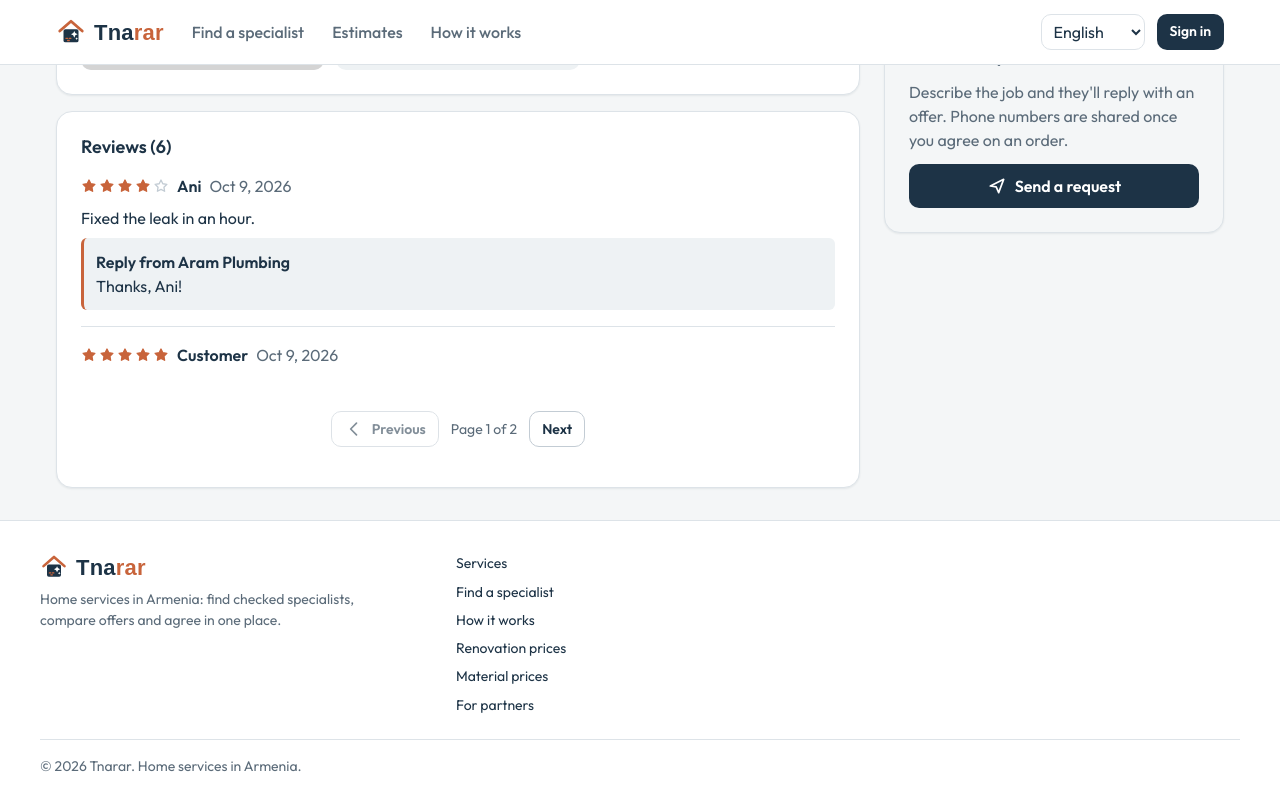
Scenario: Partner profile › shows the rating and pages through reviews with the partner replies
(page scrolled)
Expected: the text "Fixed the leak in an hour." is shown, [81, 208, 255, 228]
Expected: the text "Thanks, Ani!" is shown, [96, 276, 182, 296]
Click the button "Next" at [557, 429], box [529, 411, 585, 447]
(page scrolled)
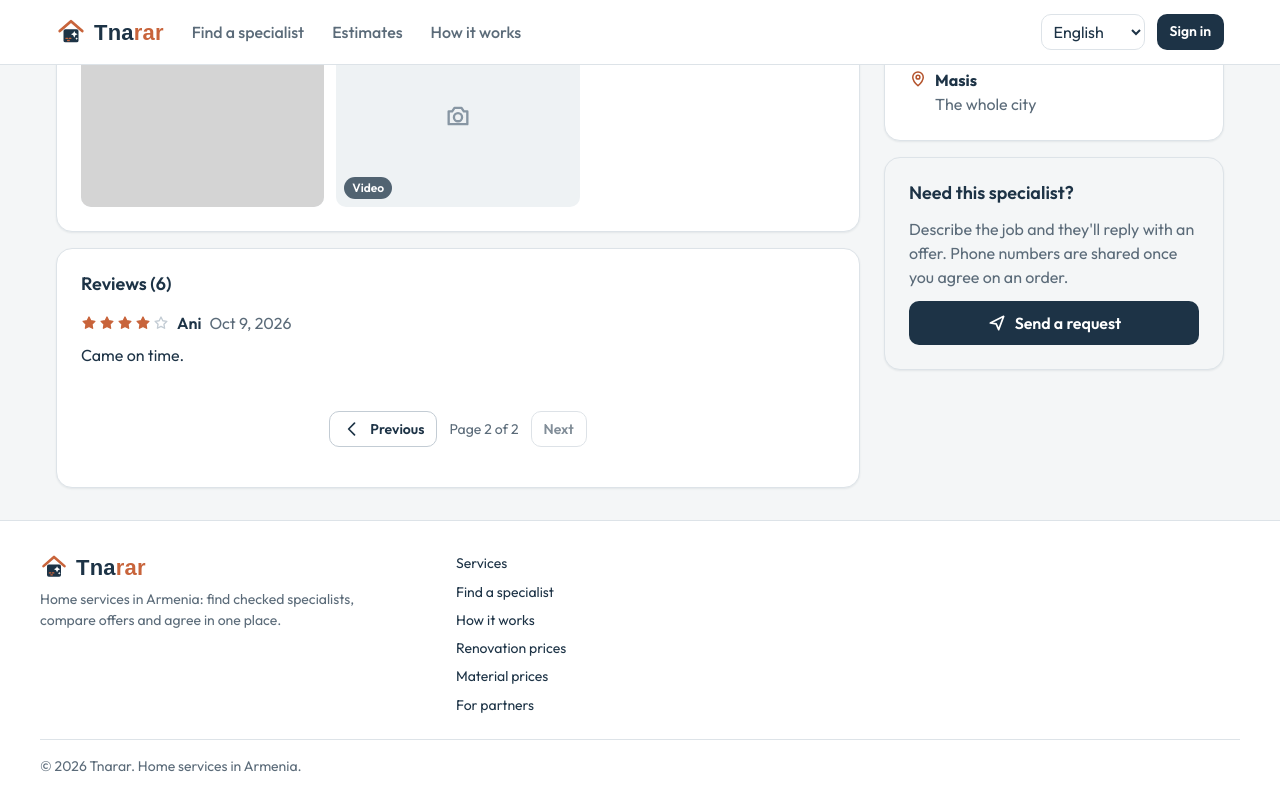
Now the text "Came on time." is shown, box [81, 345, 184, 365]
